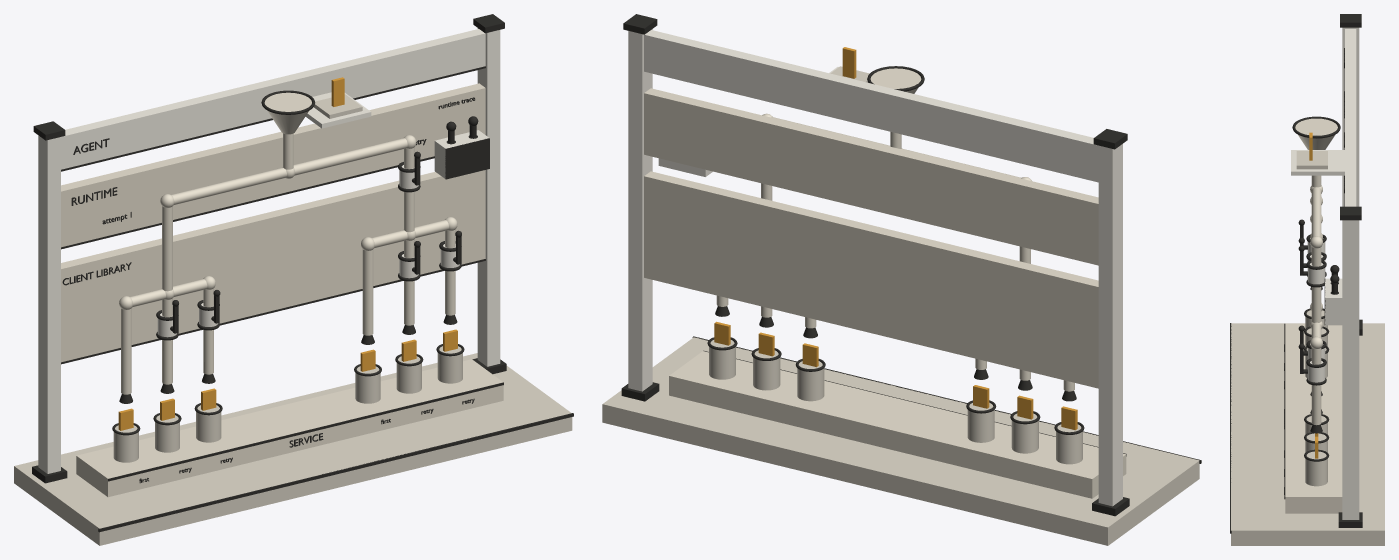
3 views of the same model, side by side, from view 1: azimuth 30°, elevation 25°; view 2: azimuth 150°, elevation 25°; view 3: azimuth 270°, elevation 25° (orthographic). The views are drawn at different scales.
Parts seen in each view (by area): view 1: Band_library, Plinth, Band_runtime, Bench, Band_agent, Post_W, Post_E, Plinth_edge, Trace_edge, Bench_edge, Rt_bar_1, Rt_bar_2 (+18 smaller); view 2: Band_library, Band_runtime, Plinth, Band_agent, Bench, Post_W, Post_E, Cup_1_2, Cup_2_2, Cup_2_1, Cup_1_3, Cup_1_1 (+2 smaller); view 3: Plinth, Bench, Post_E, Band_agent, Post_W, Funnel, CallLedge, Trace, Cup_2_3, CallTray, Rt_bar_2, Lib_drop_2_3 (+11 smaller).
Boxes of the visible parts, box(x1,y1,x2,y2) form: Band_library: box(61, 170, 485, 362); Plinth: box(14, 353, 572, 545); Band_runtime: box(61, 83, 485, 247); Bench: box(76, 359, 503, 497); Band_agent: box(61, 29, 485, 169); Post_W: box(38, 135, 60, 473); Post_E: box(477, 28, 500, 366); Plinth_edge: box(98, 413, 573, 532); Trace_edge: box(445, 138, 489, 179); Bench_edge: box(108, 382, 503, 481); Rt_bar_1: box(171, 167, 286, 204); Rt_bar_2: box(293, 138, 407, 175); Band_library: box(644, 171, 1098, 388); Band_runtime: box(644, 88, 1098, 265); Plinth: box(602, 337, 1199, 545); Band_agent: box(644, 30, 1098, 182); Bench: box(669, 351, 1126, 498); Post_W: box(1098, 144, 1122, 506); Post_E: box(628, 29, 652, 391); Cup_1_2: box(1011, 413, 1038, 453); Cup_2_2: box(753, 350, 780, 390); Cup_2_1: box(797, 361, 824, 401); Cup_1_3: box(967, 402, 994, 442); Cup_1_1: box(1056, 424, 1082, 464); Plinth: box(1231, 323, 1384, 545); Bench: box(1285, 323, 1342, 513); Post_E: box(1342, 220, 1359, 519); Band_agent: box(1345, 29, 1356, 206); Post_W: box(1342, 27, 1359, 206); Funnel: box(1295, 118, 1337, 149); CallLedge: box(1291, 150, 1344, 175); Trace: box(1325, 278, 1342, 325); Cup_2_3: box(1305, 451, 1327, 486); CallTray: box(1296, 151, 1327, 169); Rt_bar_2: box(1311, 187, 1321, 237); Lib_drop_2_3: box(1311, 385, 1321, 425).
Size of the model in its own units: 8.64 by 6.35 by 2.72.
